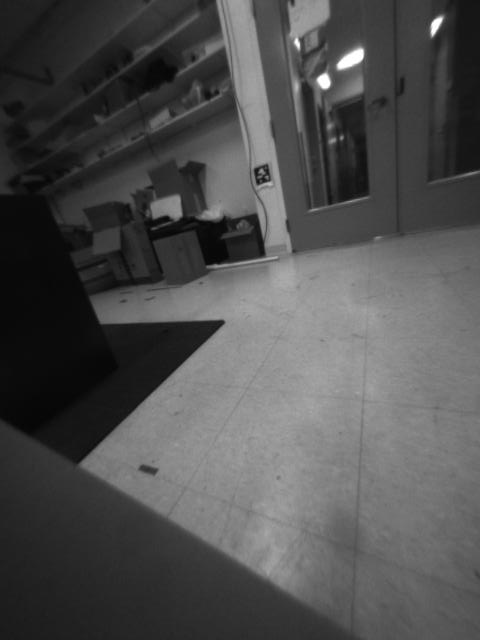door_handle: (362, 90, 393, 112)
